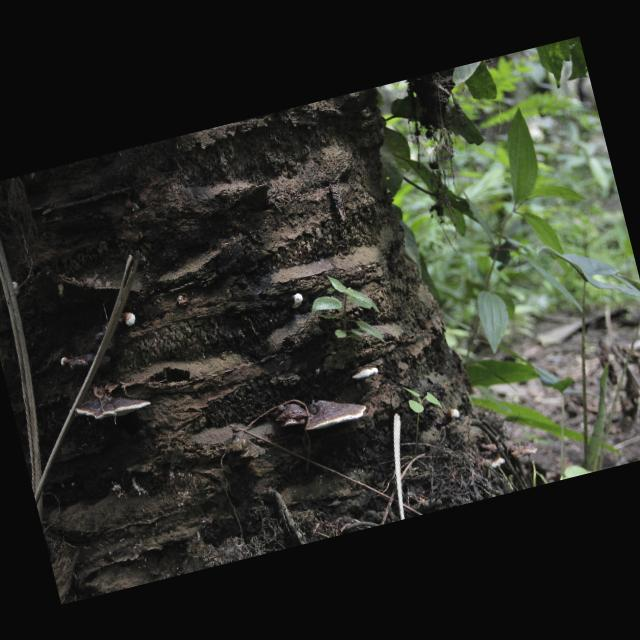ganoderma: (63, 318, 134, 378), (73, 385, 153, 428), (300, 390, 370, 434), (273, 400, 311, 430), (509, 440, 540, 461), (483, 448, 507, 471), (350, 364, 380, 382)
primordium: (289, 292, 307, 310), (123, 311, 138, 328), (447, 409, 461, 423), (12, 280, 23, 297), (61, 356, 71, 369)
